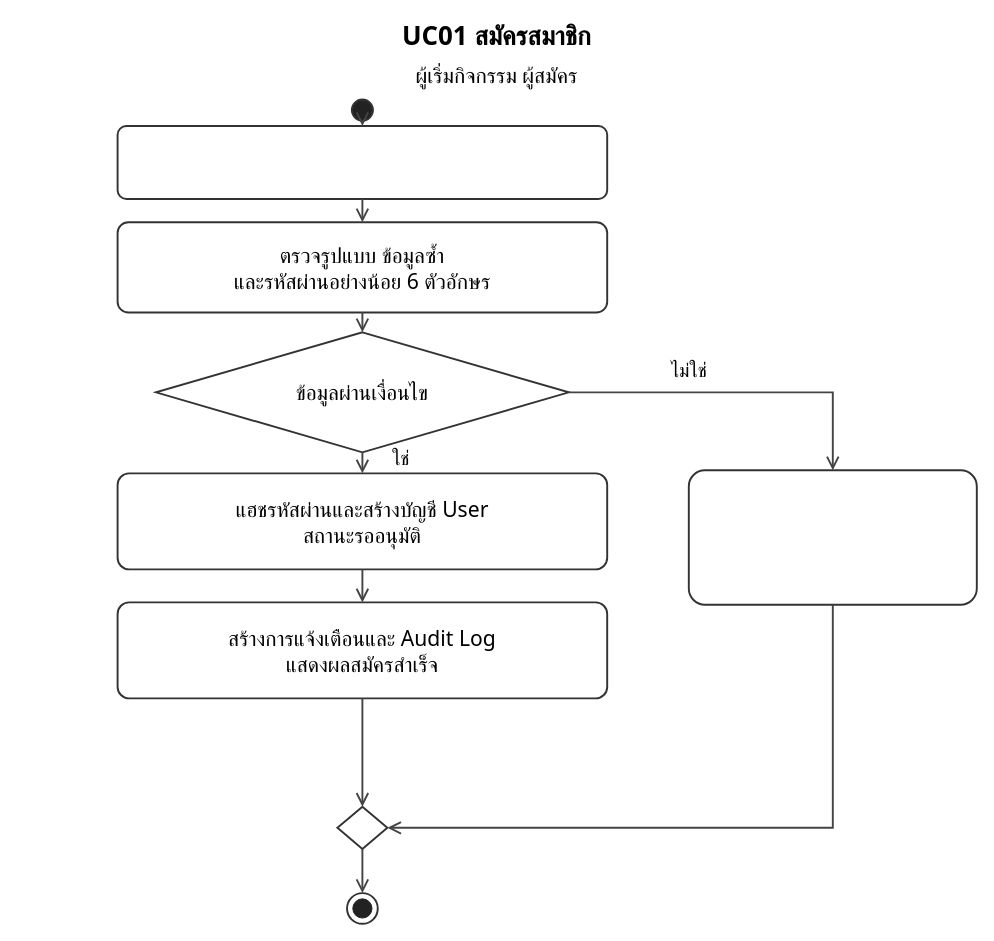
This 994x941 diagram has some shape labels left out. Here are the shapes that lost their labels. From the top down, the centre of each, then its label:
point (362, 162): กรอกอีเมล ชื่อผู้ใช้ และรหัสผ่าน
point (832, 537): แจ้งสาเหตุ ให้แก้ไขข้อมูล โดยไม่สร้างบัญชี
